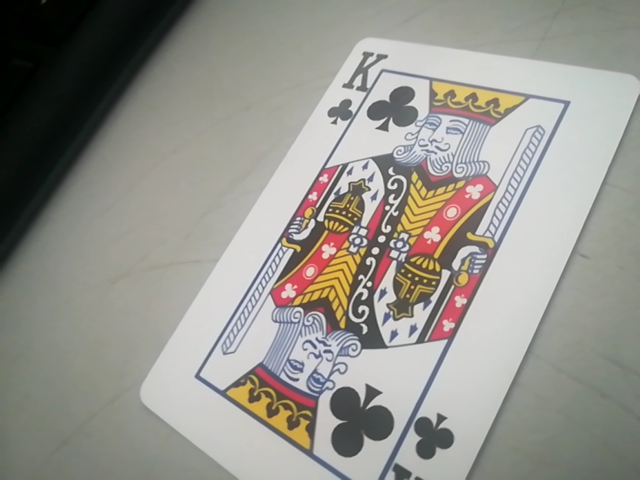mh k: (138, 45, 639, 480)
